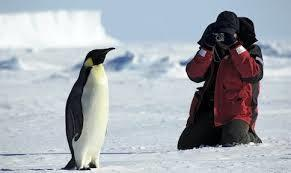emporer: (54, 40, 128, 170)
